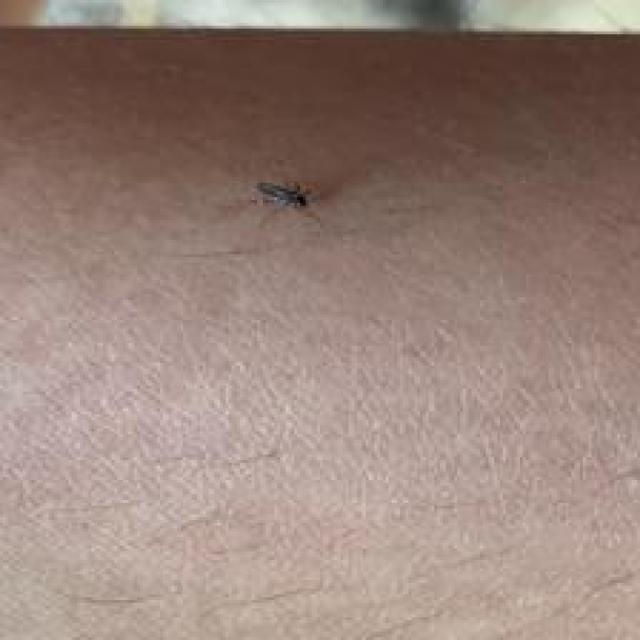Aedes albopictus: (254, 179, 312, 210)
